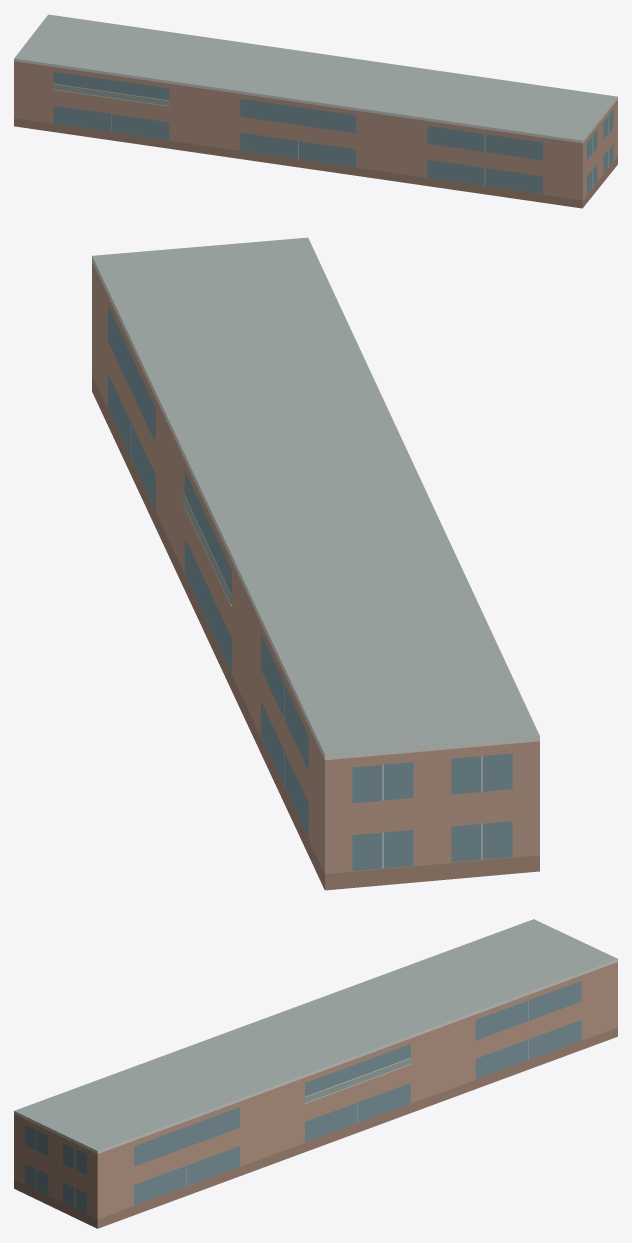
The model's file is survey-upis-32664097.glb.
3 renders of one model, top to bottom at view 1: azimuth 30°, elevation 25°; view 2: azimuth 150°, elevation 25°; view 3: azimuth 270°, elevation 25°, orthographic. The views are drawn at different scales.
Parts seen in each view (by area): view 1: survey-upis-32664097.tmp; view 2: survey-upis-32664097.tmp; view 3: survey-upis-32664097.tmp.
Boxes of the visible parts, x1,y1,x2,y2 form: survey-upis-32664097.tmp: (14, 14, 617, 208); survey-upis-32664097.tmp: (92, 237, 539, 890); survey-upis-32664097.tmp: (14, 919, 617, 1228).
Size of the model in its own units: 39 by 6.1 by 42.92.
